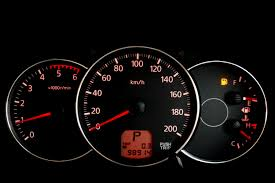Digital_Meter: (120, 131, 155, 158)
